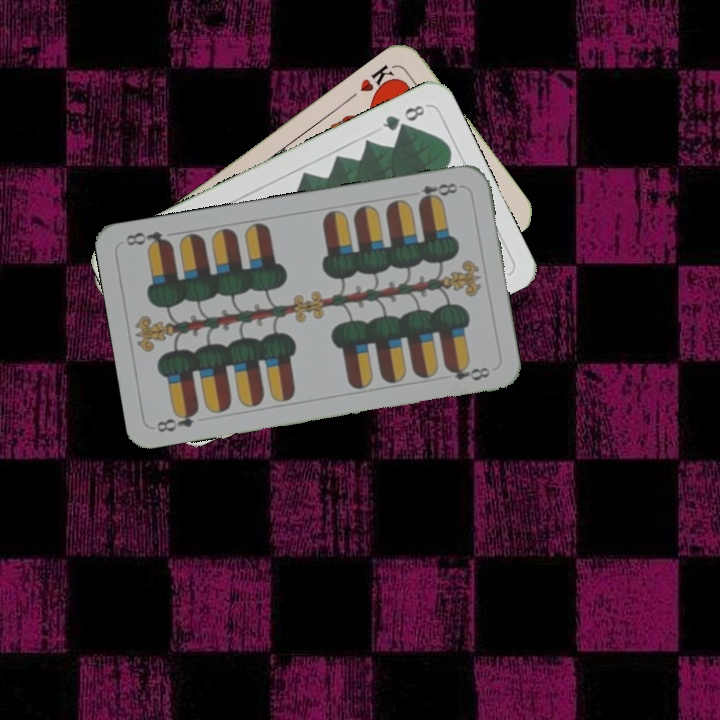E8: (152, 405, 202, 435), (414, 179, 464, 206)
G8: (378, 101, 430, 134)
HK: (356, 60, 401, 100)
